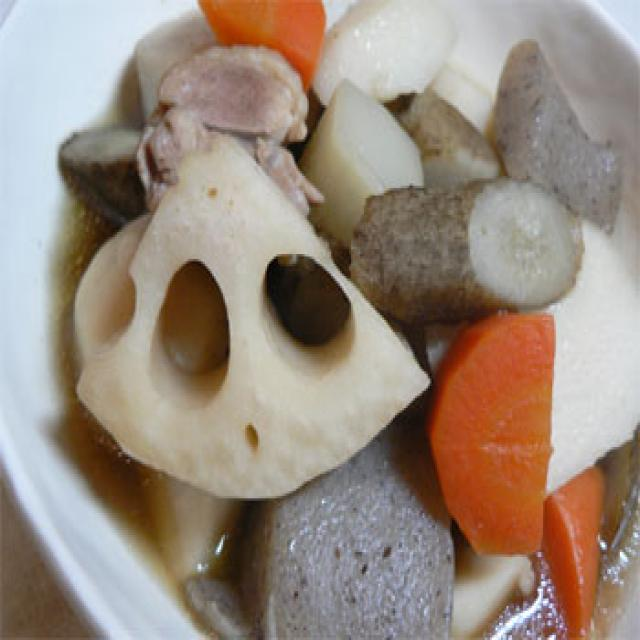鸡肉料理 含炸鸡: (69, 0, 640, 640)
